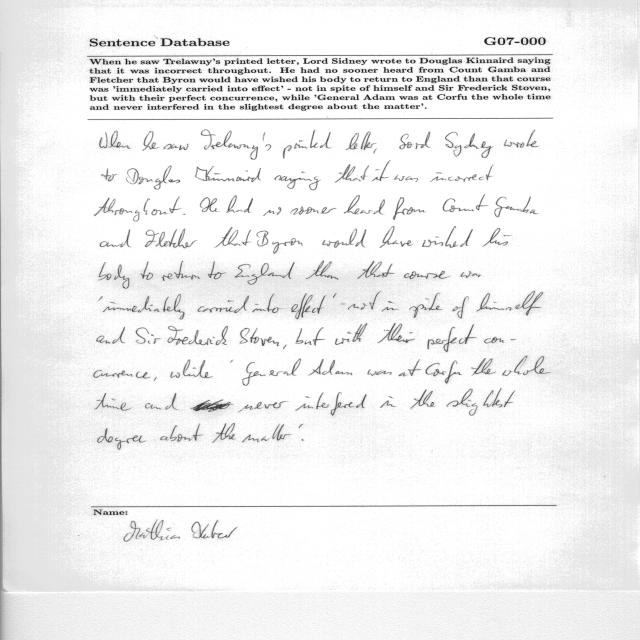word: (94, 197, 181, 222), (201, 130, 271, 160), (103, 294, 185, 319), (447, 389, 515, 416), (295, 392, 367, 416), (477, 291, 544, 316), (242, 358, 301, 386), (235, 262, 295, 285), (428, 324, 477, 352), (283, 130, 331, 158), (126, 166, 180, 190), (445, 132, 493, 158), (168, 326, 228, 345), (422, 226, 473, 248), (97, 428, 146, 450), (430, 165, 493, 182), (257, 231, 303, 254), (195, 166, 261, 182), (145, 229, 197, 248), (503, 356, 551, 376), (494, 197, 539, 218), (291, 293, 326, 319), (242, 424, 291, 442), (275, 172, 321, 191), (198, 296, 249, 313), (323, 229, 367, 248), (426, 361, 462, 384), (409, 293, 442, 318), (171, 360, 213, 379), (99, 262, 129, 288), (344, 195, 385, 214), (214, 227, 251, 248), (443, 195, 488, 212), (162, 261, 200, 281), (160, 424, 202, 442), (380, 226, 414, 248), (378, 323, 415, 343), (345, 131, 377, 154), (393, 197, 425, 220), (240, 328, 280, 346), (335, 323, 367, 345), (357, 261, 395, 279), (310, 359, 352, 375), (95, 393, 132, 411), (335, 164, 370, 183), (504, 130, 539, 148), (348, 291, 381, 310), (306, 261, 338, 280), (252, 294, 282, 313), (100, 131, 131, 149), (100, 229, 131, 247), (482, 228, 511, 247), (191, 399, 233, 412), (145, 393, 177, 410), (238, 401, 287, 412), (296, 328, 325, 346), (94, 370, 150, 379), (226, 195, 253, 213), (212, 423, 236, 443), (97, 327, 125, 344), (410, 390, 435, 409), (136, 327, 161, 344), (471, 358, 496, 375), (290, 206, 336, 215), (406, 132, 430, 149), (372, 161, 391, 182), (452, 297, 469, 319), (399, 360, 421, 377), (404, 271, 449, 279), (143, 131, 160, 151), (208, 261, 226, 279), (200, 197, 219, 212), (141, 262, 153, 280), (399, 134, 412, 149), (102, 169, 117, 182), (484, 337, 516, 343), (382, 301, 399, 312), (381, 396, 396, 408), (367, 369, 392, 376), (263, 207, 282, 216), (394, 175, 418, 182), (164, 144, 189, 150), (461, 271, 481, 278), (333, 293, 337, 298), (99, 297, 103, 301), (283, 345, 287, 349), (299, 424, 303, 428), (154, 377, 157, 381), (231, 360, 233, 363), (302, 439, 304, 441), (184, 214, 186, 215), (341, 304, 345, 304)
